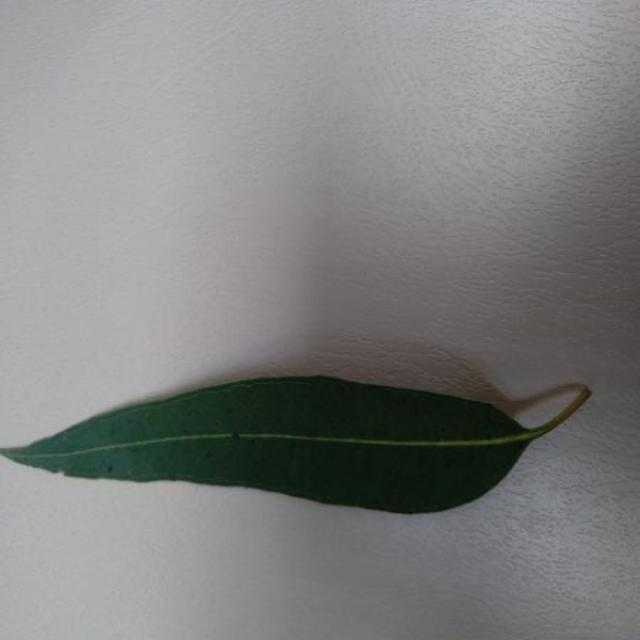eucalpytus: (3, 376, 592, 513)
